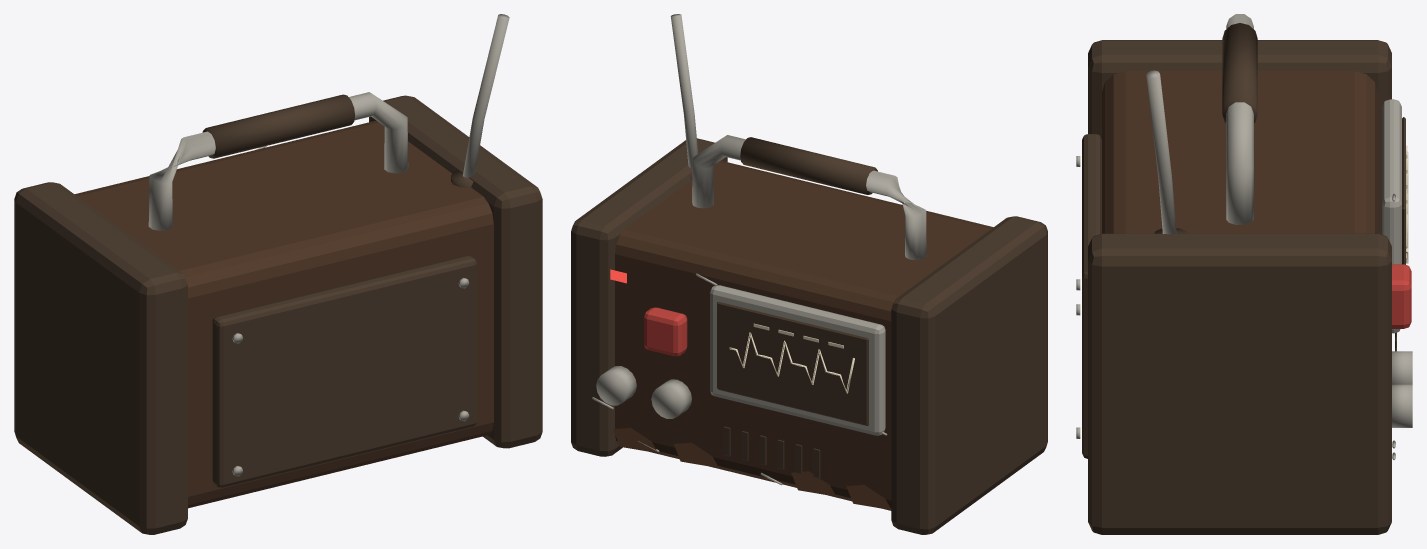
Rendered from Exhibit_7_recorder.fbx.
3 renders of one model, left to right at view 1: azimuth 30°, elevation 25°; view 2: azimuth 150°, elevation 25°; view 3: azimuth 270°, elevation 25°, orthographic. The views are drawn at different scales.
Parts seen in each view (by area): view 1: Exhibit_7_recorder; view 2: Exhibit_7_recorder; view 3: Exhibit_7_recorder.
Part boxes in pixels (x1=…): Exhibit_7_recorder: x1=14, y1=14, x2=542, y2=534; Exhibit_7_recorder: x1=571, y1=14, x2=1047, y2=534; Exhibit_7_recorder: x1=1076, y1=14, x2=1412, y2=534.
Size of the model in its own units: 0.263 by 0.1705 by 0.2568.
